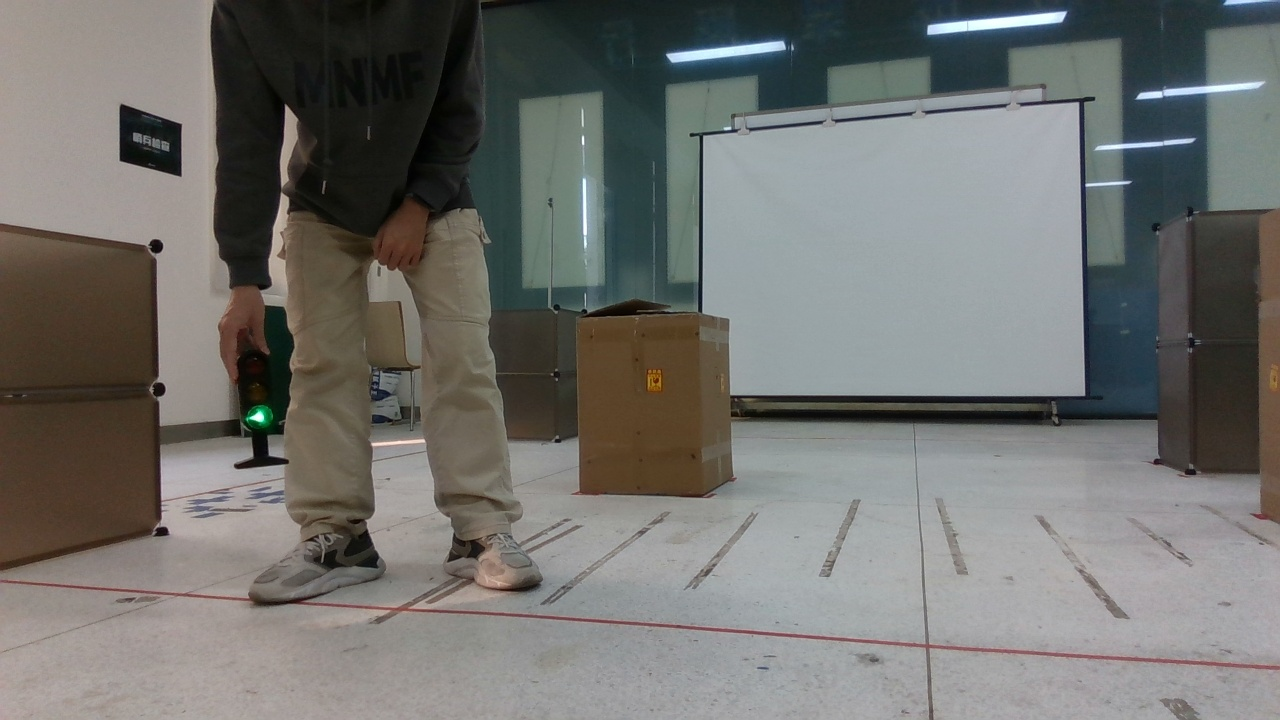green_light: (214, 331, 310, 473)
